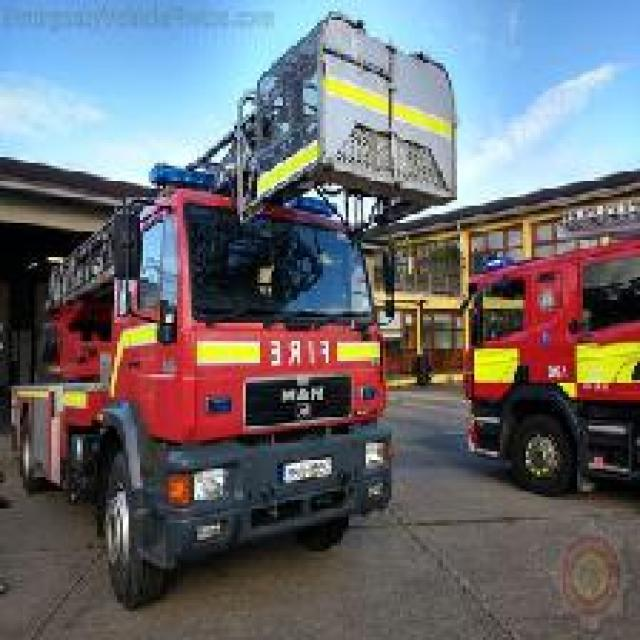emergency: (35, 182, 408, 578)
